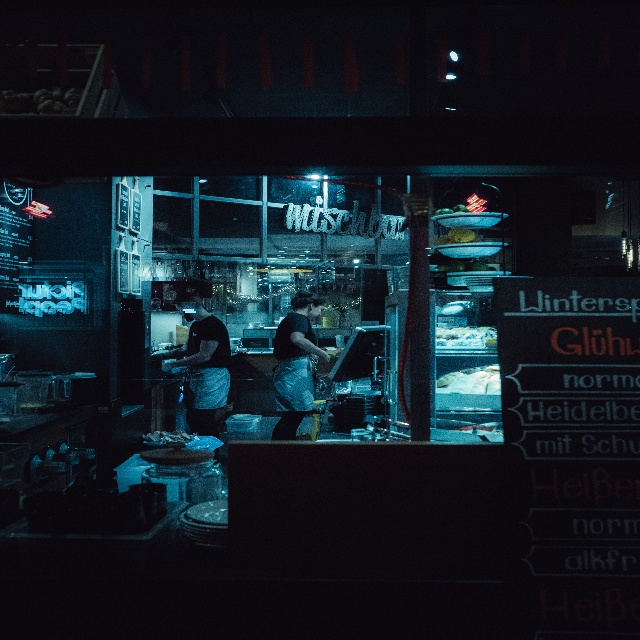Mascara: (183, 310, 193, 322)
Sin_guantes: (321, 351, 330, 363)
